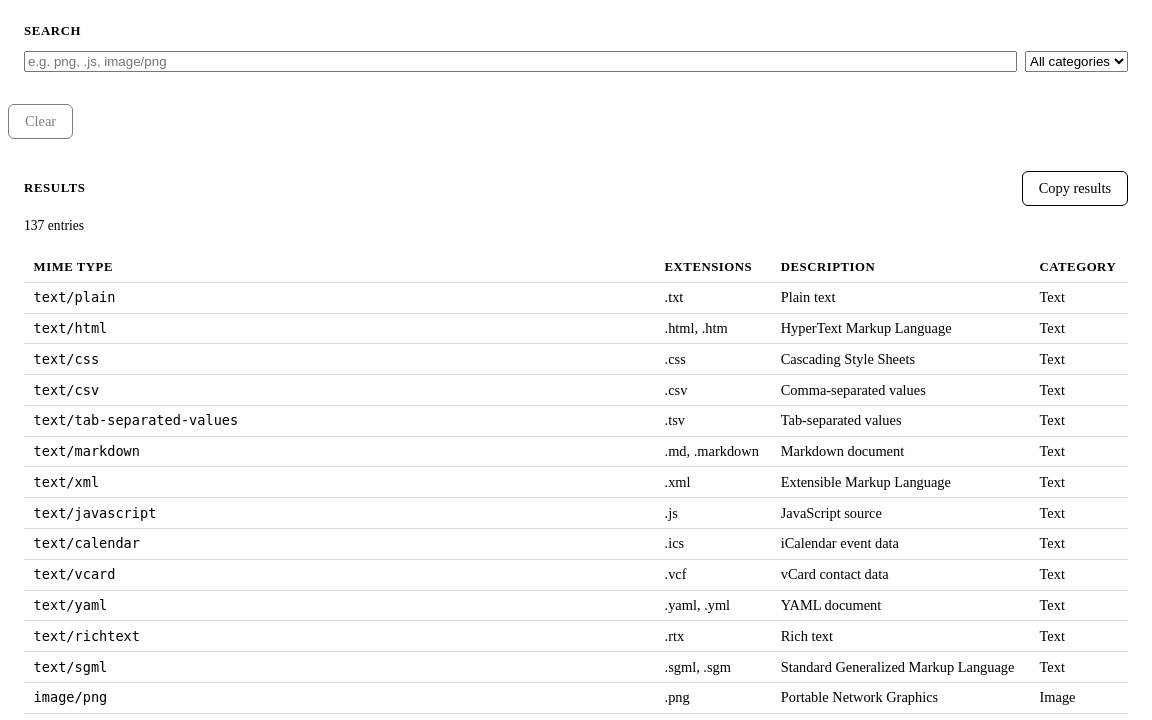
MimeTypeReferenceTool › filters results as the user types a search query
Type "png" into the search field named "Search MIME types" at (520, 62), box 24,51 -> 1017,72
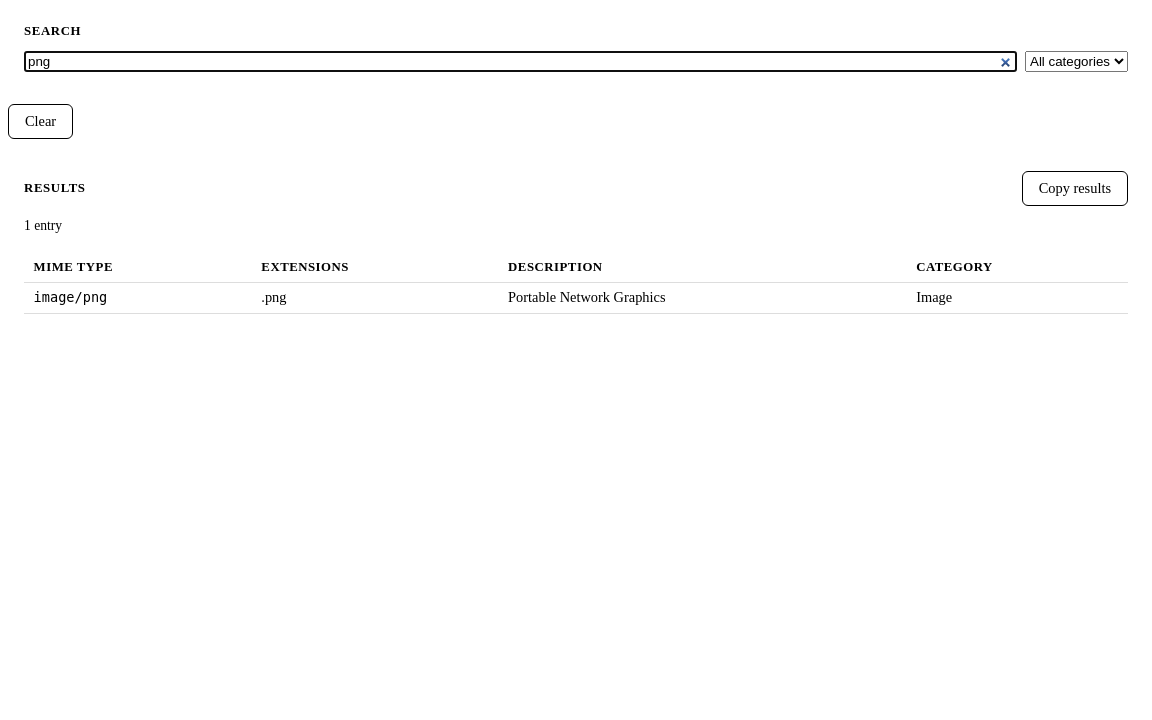
Expected: the text "image/png" is shown, 34,289 -> 107,305
Expected: the text "text/plain" is gone
